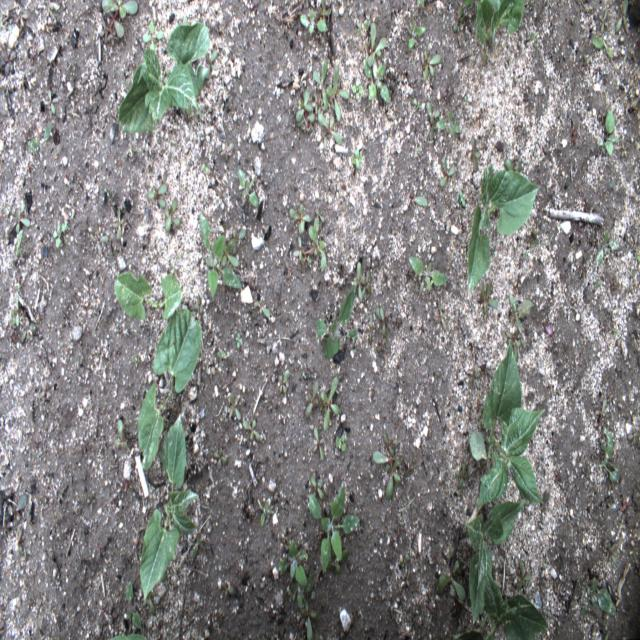crop: (468, 334, 549, 511), (452, 503, 553, 639), (134, 289, 206, 471), (116, 15, 218, 138), (139, 411, 200, 606), (465, 163, 541, 296), (114, 261, 188, 324)
weed: (308, 467, 362, 576), (472, 3, 550, 64), (197, 205, 247, 296), (314, 274, 358, 362), (369, 425, 416, 499), (93, 0, 143, 53), (292, 84, 340, 139), (109, 576, 148, 636), (304, 195, 332, 278), (434, 547, 470, 609), (276, 537, 310, 594), (324, 57, 351, 121), (292, 2, 340, 38), (408, 254, 452, 293), (296, 569, 319, 639), (363, 19, 391, 76), (318, 371, 341, 434), (235, 160, 259, 219), (366, 51, 392, 102), (309, 54, 330, 117), (157, 191, 189, 232), (142, 174, 170, 219), (288, 194, 314, 235), (596, 103, 614, 160), (420, 42, 442, 85), (372, 299, 396, 336), (423, 101, 443, 139), (612, 1, 634, 33), (255, 493, 276, 526), (406, 20, 427, 52), (243, 416, 263, 443), (110, 207, 126, 240)
